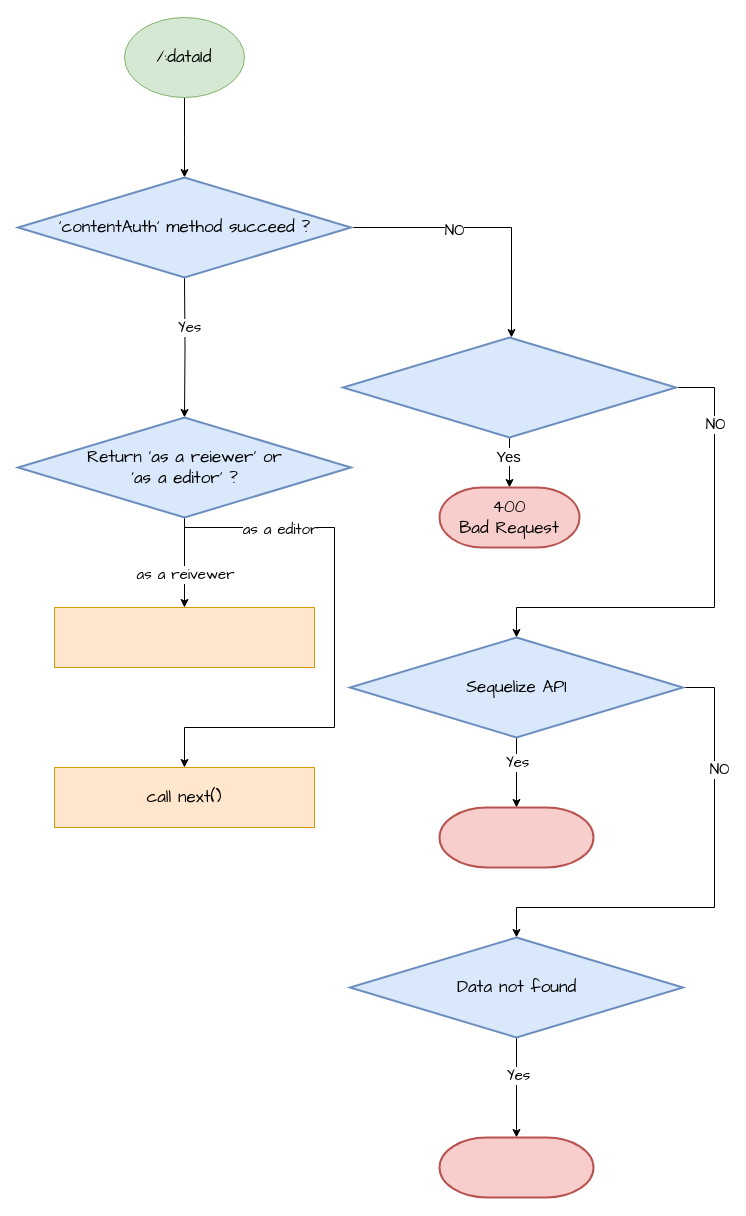
Image size: 746x1216. Some labels were removed from this diagram. Here are the shapes that lost their labels. From the top down, the box of each, then its label:
(342, 336, 676, 438): Wrong data argument
(54, 606, 314, 668): Redirect /mid-long-term/review/${dataId}/index
(438, 806, 594, 868): 500 Inter Server Error
(438, 1136, 594, 1198): 404 Not found
